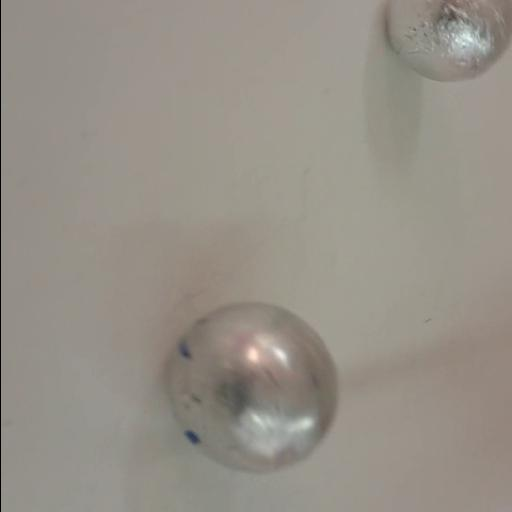alive: (162, 296, 342, 478), (388, 0, 510, 80)
